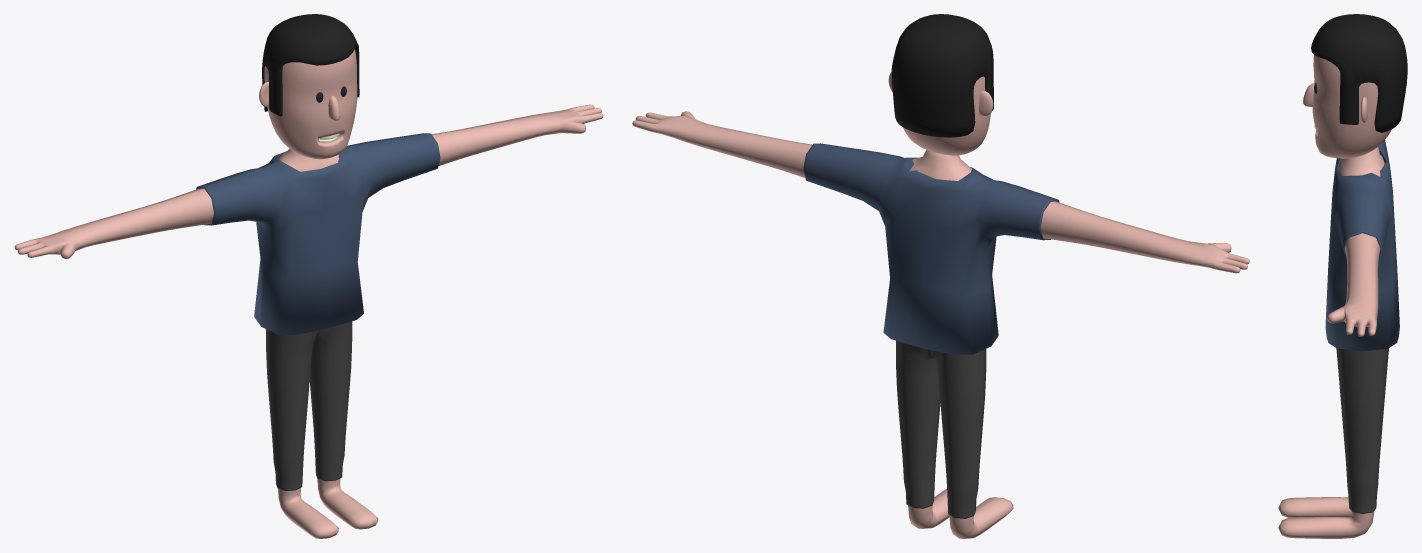
Rendered from simple_stylized_male_character.glb.
3 renders of one model, left to right at view 1: azimuth 30°, elevation 25°; view 2: azimuth 150°, elevation 25°; view 3: azimuth 270°, elevation 25°, orthographic. The views are drawn at different scales.
Parts seen in each view (by area): view 1: T-shirt_8, body_0, pants_9, Head_3, hai_4; view 2: T-shirt_8, body_0, pants_9, hai_4, Head_3; view 3: T-shirt_8, body_0, hai_4, pants_9, Head_3, nose_2.
Part boxes in pixels (left/top/right/bottom): T-shirt_8: left=196, top=133, right=440, bottom=334; body_0: left=14, top=104, right=603, bottom=538; pants_9: left=266, top=321, right=352, bottom=490; Head_3: left=264, top=49, right=357, bottom=159; hai_4: left=262, top=14, right=359, bottom=116; T-shirt_8: left=803, top=143, right=1059, bottom=354; body_0: left=632, top=111, right=1249, bottom=538; pants_9: left=896, top=341, right=986, bottom=518; hai_4: left=891, top=14, right=993, bottom=137; Head_3: left=903, top=76, right=990, bottom=155; T-shirt_8: left=1325, top=140, right=1399, bottom=351; body_0: left=1278, top=147, right=1384, bottom=538; hai_4: left=1311, top=14, right=1407, bottom=132; pants_9: left=1336, top=348, right=1388, bottom=513; Head_3: left=1312, top=55, right=1391, bottom=158; nose_2: left=1303, top=83, right=1314, bottom=106.
Size of the model in its own units: 4.72 by 3.8 by 0.8796.
